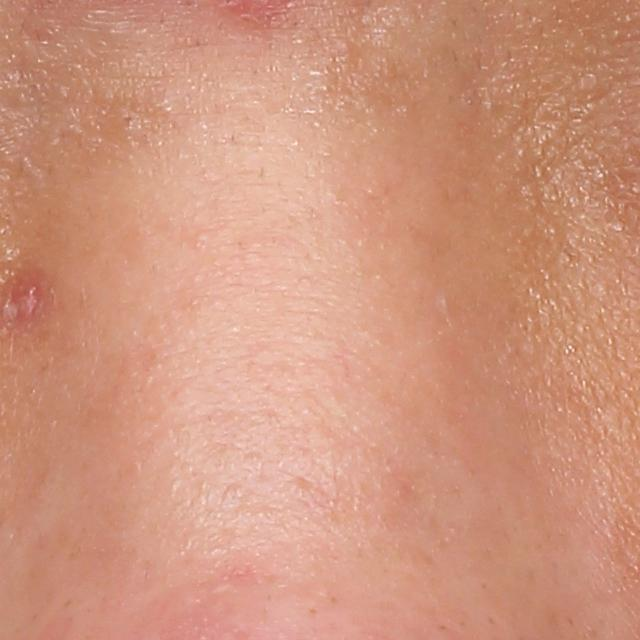papule: (1, 276, 42, 325)
